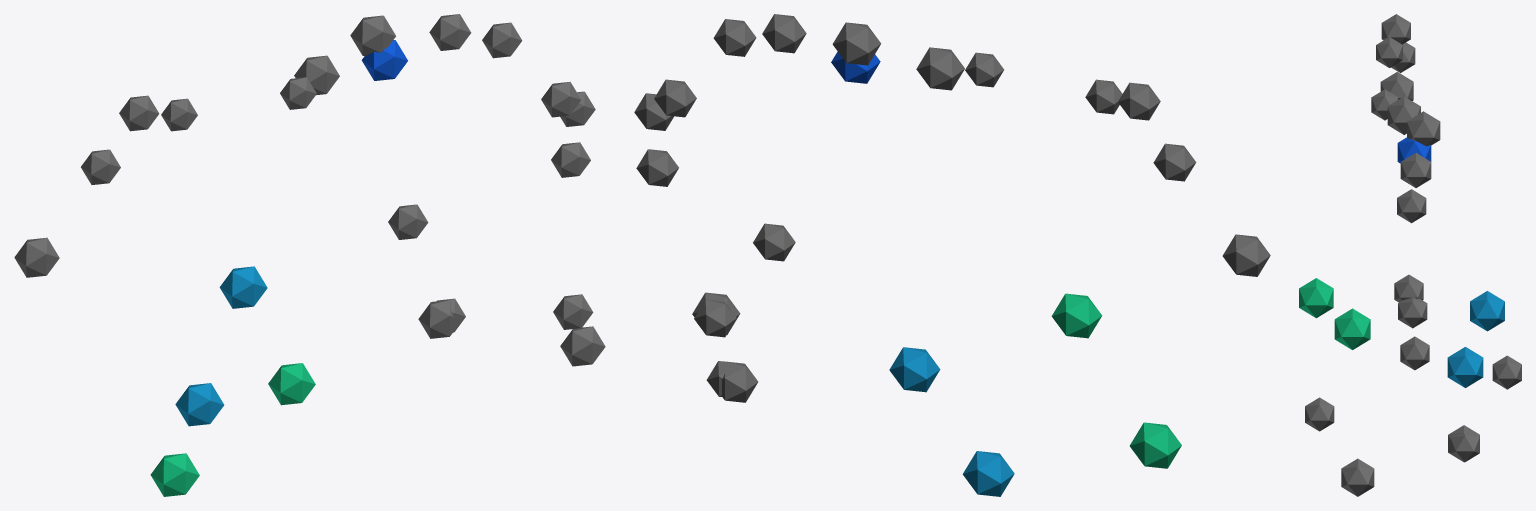
3 renders of one model, left to right at view 1: azimuth 30°, elevation 25°; view 2: azimuth 150°, elevation 25°; view 3: azimuth 270°, elevation 25°, orthographic. The views are drawn at different scales.
Visible parts, largest first — view 1: 01_06_01; view 2: 01_06_01; view 3: 01_06_01.
Boxes of the visible parts, x1=… form: 01_06_01: x1=14, y1=14, x2=605, y2=496; 01_06_01: x1=634, y1=14, x2=1270, y2=496; 01_06_01: x1=1299, y1=14, x2=1521, y2=496.
Bounding box in the file's own units: 0.6522 × 0.4168 × 0.2554.
